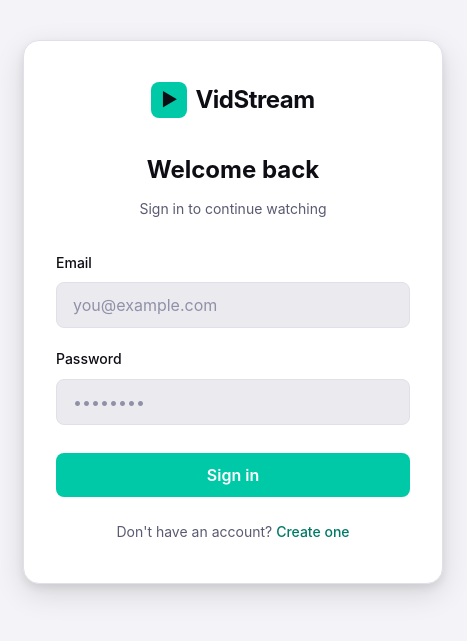
LoginPage › T2.10 — server error shows error message
In the field labelled "Email": (233, 305) [56,282,410,328], type "bad@b.com"
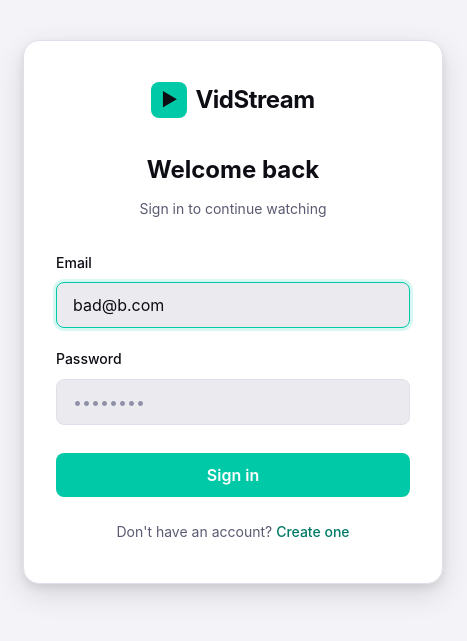
In the password field labelled "Password": (233, 402) [56,379,410,425], type "wrongpass"
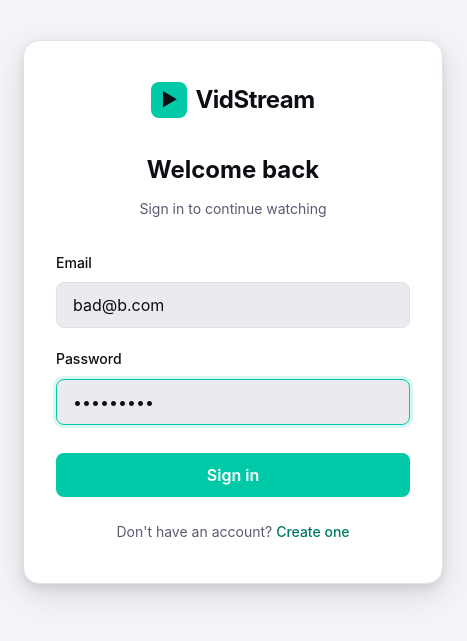
Click the button "Sign in": (233, 475) [56,453,410,497]
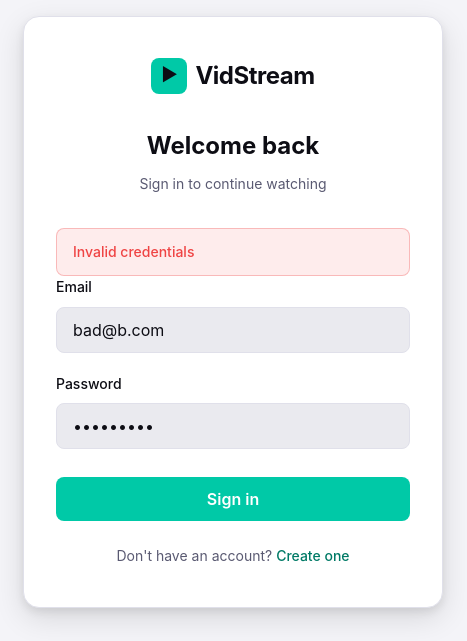
Check: the text "Invalid credentials" is shown, box [56,228,410,276]
